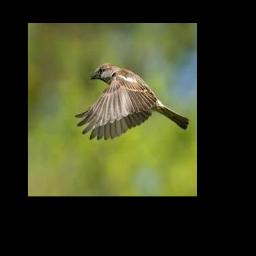Sparrow: (75, 63, 189, 140)
